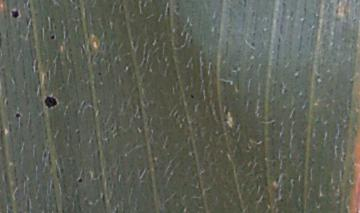tarspot: (43, 95, 58, 110), (10, 8, 19, 20), (188, 92, 196, 100), (13, 112, 22, 119), (76, 177, 83, 184), (49, 34, 56, 40), (96, 71, 103, 77)
